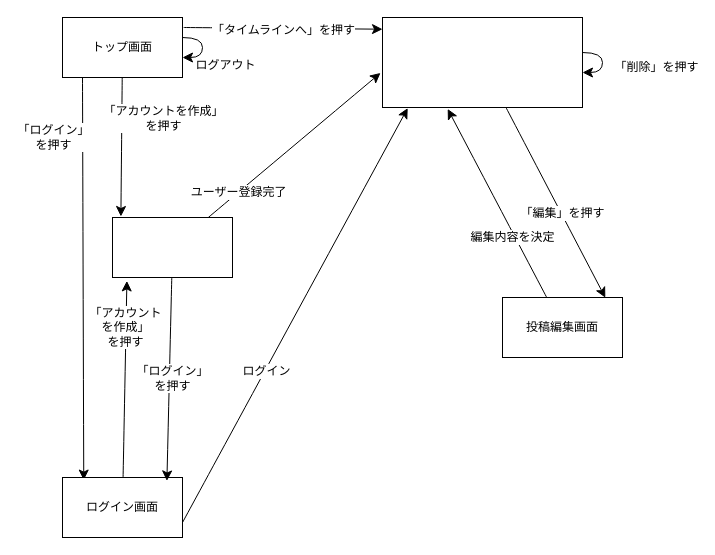
The diagram is 715 pixels wide and 555 high, and some of its shapes have lost their labels. Here are the shapes that lost their labels. From the top down, the centre of each, then its label:
At (482,62): "投稿一覧表示画面".
At (172,247): "ユーザー登録画面".
